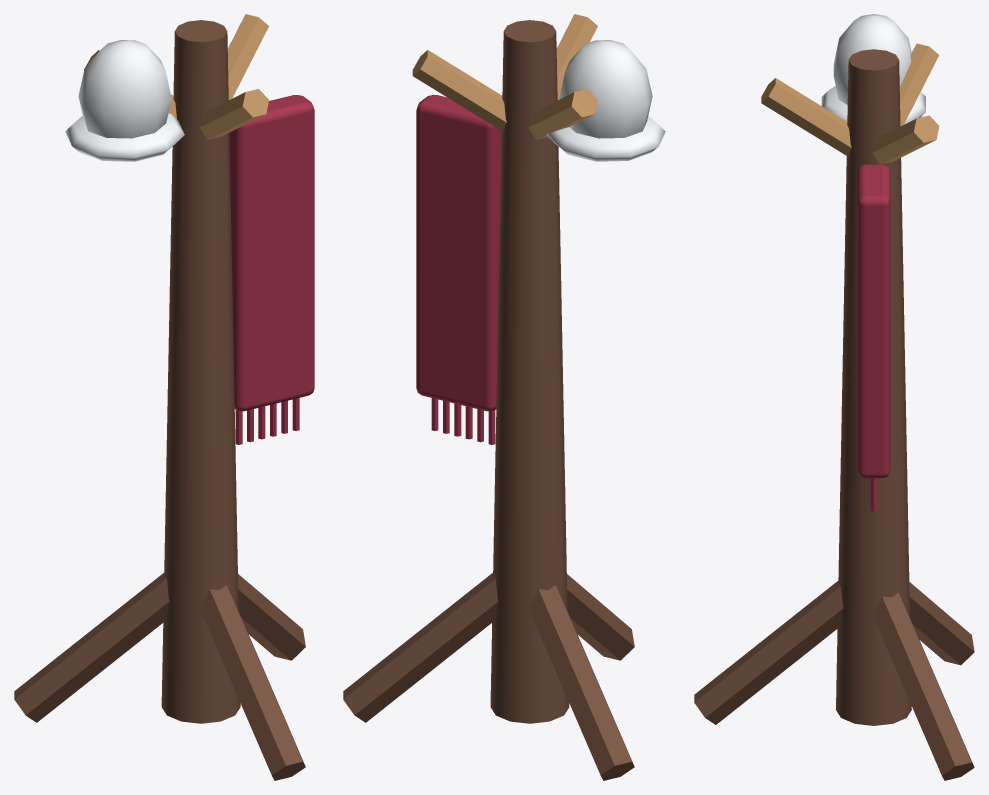
The model's file is alpine-snow-village-scarf-and-hat-stand-ad9e6b31__19838.glb.
3 renders of one model, left to right at view 1: azimuth 30°, elevation 25°; view 2: azimuth 150°, elevation 25°; view 3: azimuth 270°, elevation 25°, orthographic. The views are drawn at different scales.
Parts seen in each view (by area): view 1: scarf-and-hat-stand-wood, scarf-and-hat-stand-berry, scarf-and-hat-stand-snow, scarf-and-hat-stand-oak; view 2: scarf-and-hat-stand-wood, scarf-and-hat-stand-berry, scarf-and-hat-stand-snow, scarf-and-hat-stand-oak; view 3: scarf-and-hat-stand-wood, scarf-and-hat-stand-berry, scarf-and-hat-stand-oak, scarf-and-hat-stand-snow.
Boxes of the visible parts, x1,y1,x2,y2 form: scarf-and-hat-stand-wood: (14, 20, 305, 780); scarf-and-hat-stand-berry: (229, 95, 314, 444); scarf-and-hat-stand-snow: (65, 40, 184, 161); scarf-and-hat-stand-oak: (84, 14, 268, 139); scarf-and-hat-stand-wood: (343, 20, 634, 780); scarf-and-hat-stand-berry: (416, 95, 501, 444); scarf-and-hat-stand-snow: (546, 40, 665, 161); scarf-and-hat-stand-oak: (412, 14, 597, 139); scarf-and-hat-stand-wood: (694, 49, 974, 780); scarf-and-hat-stand-berry: (857, 164, 890, 511); scarf-and-hat-stand-oak: (761, 43, 939, 164); scarf-and-hat-stand-snow: (821, 14, 925, 124).
Bounding box in the file's own units: 0.7598 × 1.75 × 0.6646.
